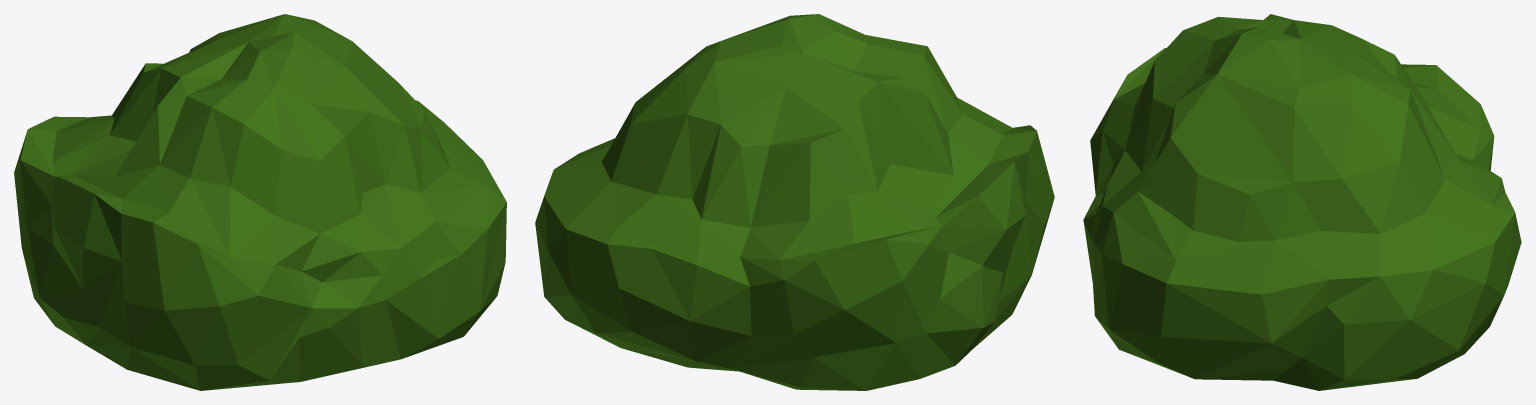
The model's file is Bush_10.fbx.
3 views of the same model, side by side, from view 1: azimuth 30°, elevation 25°; view 2: azimuth 150°, elevation 25°; view 3: azimuth 270°, elevation 25° (orthographic).
Parts seen in each view (by area): view 1: Bush_10; view 2: Bush_10; view 3: Bush_10.
Part boxes in pixels (x1,y1,x2,y2): Bush_10: (14,14,506,390); Bush_10: (535,14,1054,390); Bush_10: (1083,14,1521,390).
Size of the model in its own units: 180 by 119 by 165.
